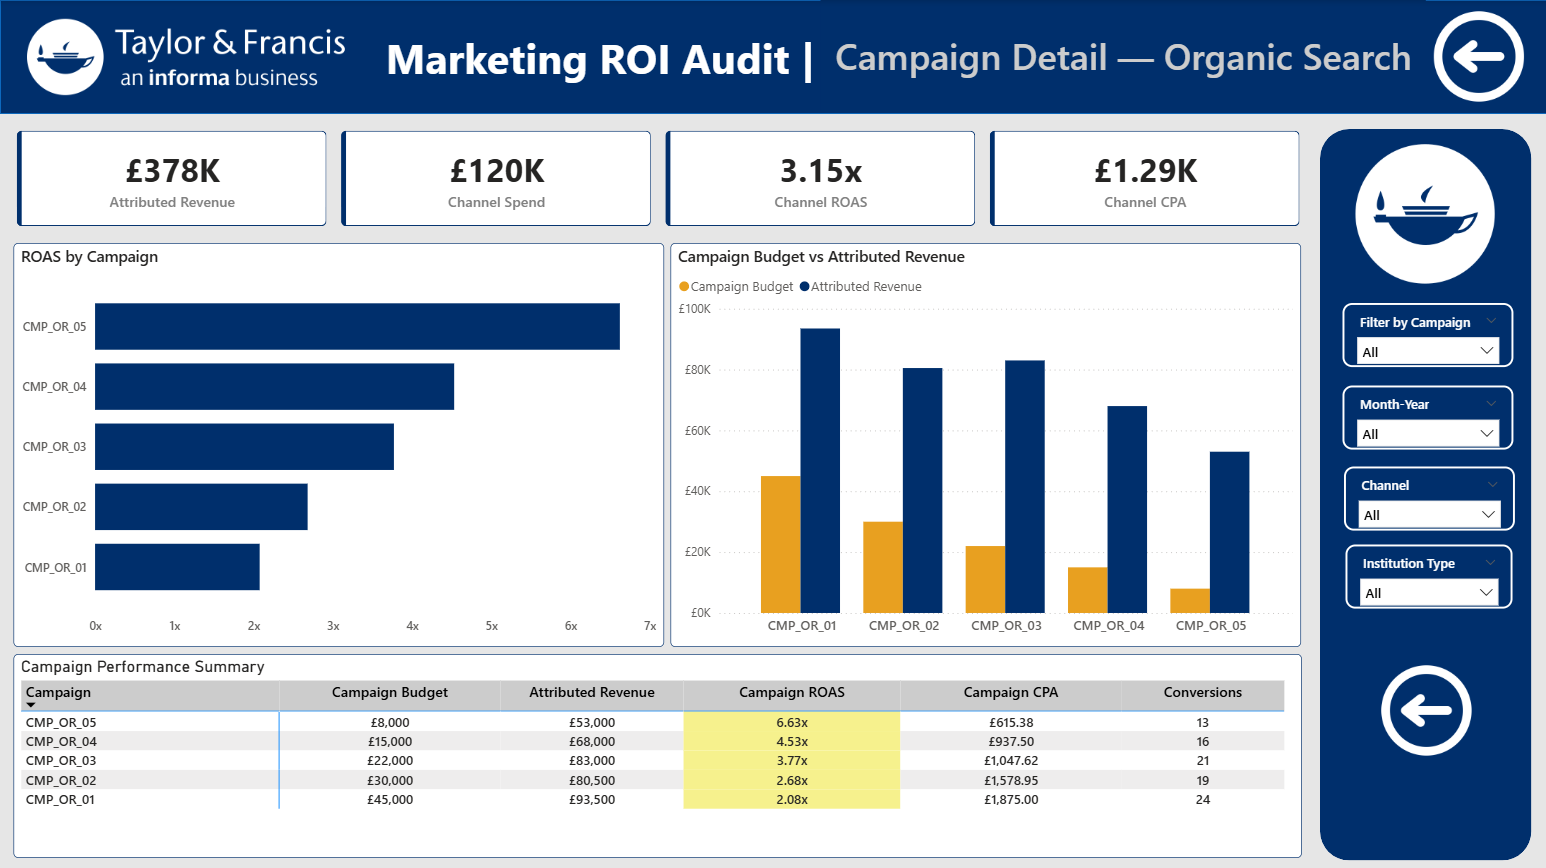

The dashboard page shown, as its layout file describes it:
{"tool":"powerbi","page":{"name":"Campaign Detail","canvas":[1600,900],"ordinal":3},"visuals":[{"type":"shape","box":[0,0,1599.4,117.4],"z":0},{"type":"shape","box":[1359,132.5,217.7,753.3],"z":1000},{"type":"slicer","fields":{"Values":["interactions.channel"]},"box":[1383.6,480.8,176,66.2],"z":2000},{"type":"slicer","fields":{"Values":["Date_Table.Month-Year"]},"box":[1381.7,397.5,176,66.2],"z":3000},{"type":"slicer","fields":{"Values":["authors.institution_type"]},"box":[1385.5,560.3,172.2,66.2],"z":4000},{"type":"cardVisual","fields":{"Data":["_Measures.Attributed Revenue","_Measures.Channel Spend","_Measures.Channel ROAS","_Measures.Channel CPA"]},"box":[0,117.4,1359,132.5],"z":5000},{"type":"clusteredBarChart","title":"ROAS by Campaign","fields":{"Category":["submissions_attributed.last_touch_campaign"],"Y":["_Measures.Campaign ROAS"]},"box":[13.2,249.8,670,416],"z":6000},{"type":"clusteredColumnChart","title":"Campaign Budget vs Attributed Revenue","fields":{"Category":["submissions_attributed.last_touch_campaign"],"Y":["_Measures.Campaign Budget","_Measures.Attributed Revenue"]},"box":[690.9,249.8,649.2,416],"z":7000},{"type":"slicer","fields":{"Values":["marketing_spend.campaign_id"]},"box":[1381.7,312.3,176,66.2],"z":8000},{"type":"image","box":[1377.9,147.6,181.7,143.8],"z":9000},{"type":"textbox","box":[391.8,24.7,453.6,72.2],"z":10000},{"type":"image","box":[28.4,0,327.4,117.4],"z":11000},{"type":"card","fields":{"Values":["_Measures.Drill Title"]},"box":[844.8,0,623.5,114.9],"z":13000},{"type":"pivotTable","title":"Campaign Performance Summary","fields":{"Rows":["submissions_attributed.last_touch_campaign"],"Values":["_Measures.Campaign Budget","_Measures.Attributed Revenue","_Measures.Campaign ROAS","_Measures.Campaign CPA","CountNonNull(submissions_attributed.submission_id)"]},"box":[13.2,673.8,1326.8,210.1],"z":14000},{"type":"image","box":[1468.3,10.1,108.1,94.6],"z":15000},{"type":"image","box":[1414.2,684.3,108.1,94.6],"z":16000}]}

Visuals, with their boxes in screenshot pixels (x1, y1, x2, y2), scaled from the page's 1600x900 canvas onto the 1546x868 screenshot:
shape: pyautogui.locateOnScreen(0, 0, 1545, 113)
shape: pyautogui.locateOnScreen(1313, 128, 1523, 854)
slicer - interactions.channel: pyautogui.locateOnScreen(1337, 464, 1507, 528)
slicer - Date_Table.Month-Year: pyautogui.locateOnScreen(1335, 383, 1505, 447)
slicer - authors.institution_type: pyautogui.locateOnScreen(1339, 540, 1505, 604)
cardVisual - _Measures.Attributed Revenue x _Measures.Channel Spend: pyautogui.locateOnScreen(0, 113, 1313, 241)
"ROAS by Campaign" clusteredBarChart: pyautogui.locateOnScreen(13, 241, 660, 642)
"Campaign Budget vs Attributed Revenue" clusteredColumnChart: pyautogui.locateOnScreen(668, 241, 1295, 642)
slicer - marketing_spend.campaign_id: pyautogui.locateOnScreen(1335, 301, 1505, 365)
image: pyautogui.locateOnScreen(1331, 142, 1507, 281)
textbox: pyautogui.locateOnScreen(379, 24, 817, 93)
image: pyautogui.locateOnScreen(27, 0, 344, 113)
card - _Measures.Drill Title: pyautogui.locateOnScreen(816, 0, 1419, 111)
"Campaign Performance Summary" pivotTable: pyautogui.locateOnScreen(13, 650, 1295, 852)
image: pyautogui.locateOnScreen(1419, 10, 1523, 101)
image: pyautogui.locateOnScreen(1366, 660, 1471, 751)
